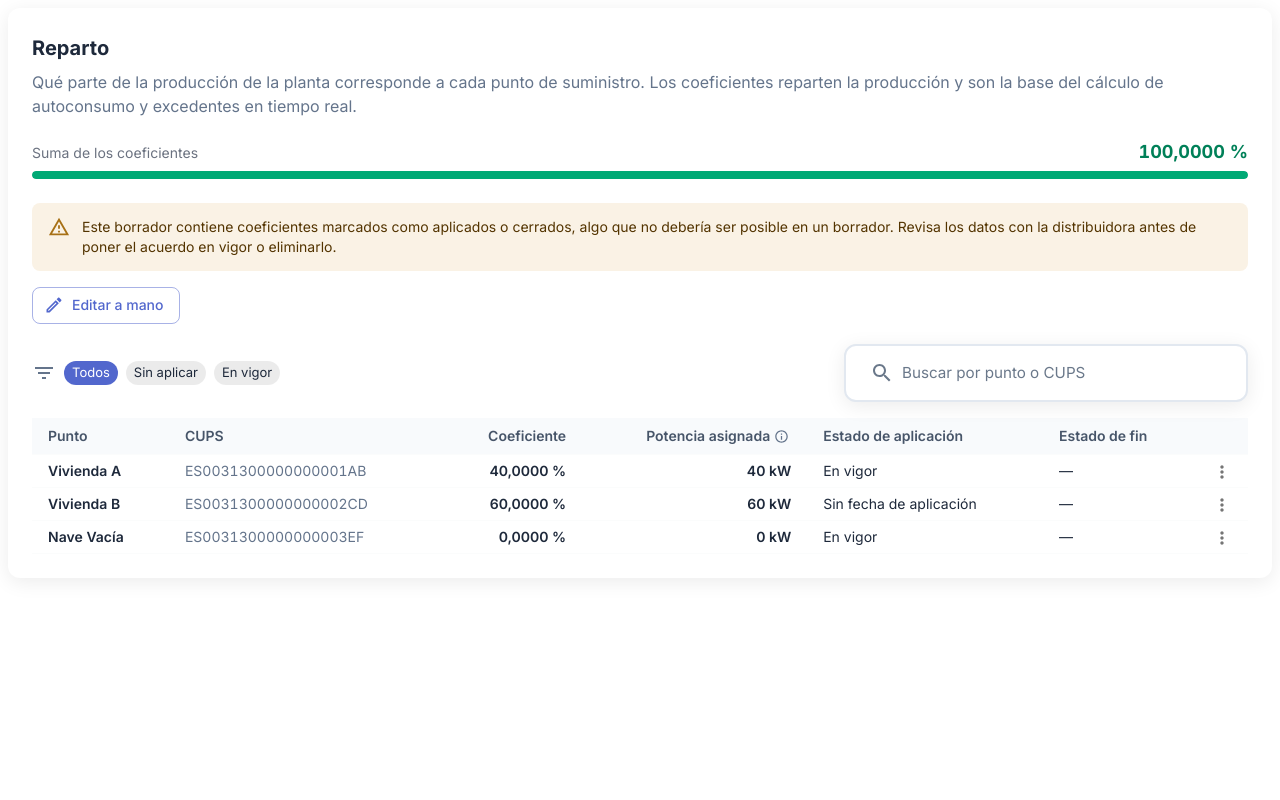
Test: SharingAgreementCoefficientSet (DRAFT editing) › hides the coefficient sum cards while editing, in favor of the live readout
Expected: the text "Suma de los coeficientes" is shown, [32,143,198,163]
Expected: the text "Suma de los coeficientes: " is not shown
Click the button "Editar a mano".
click(106, 305)  # box [32,287,180,324]
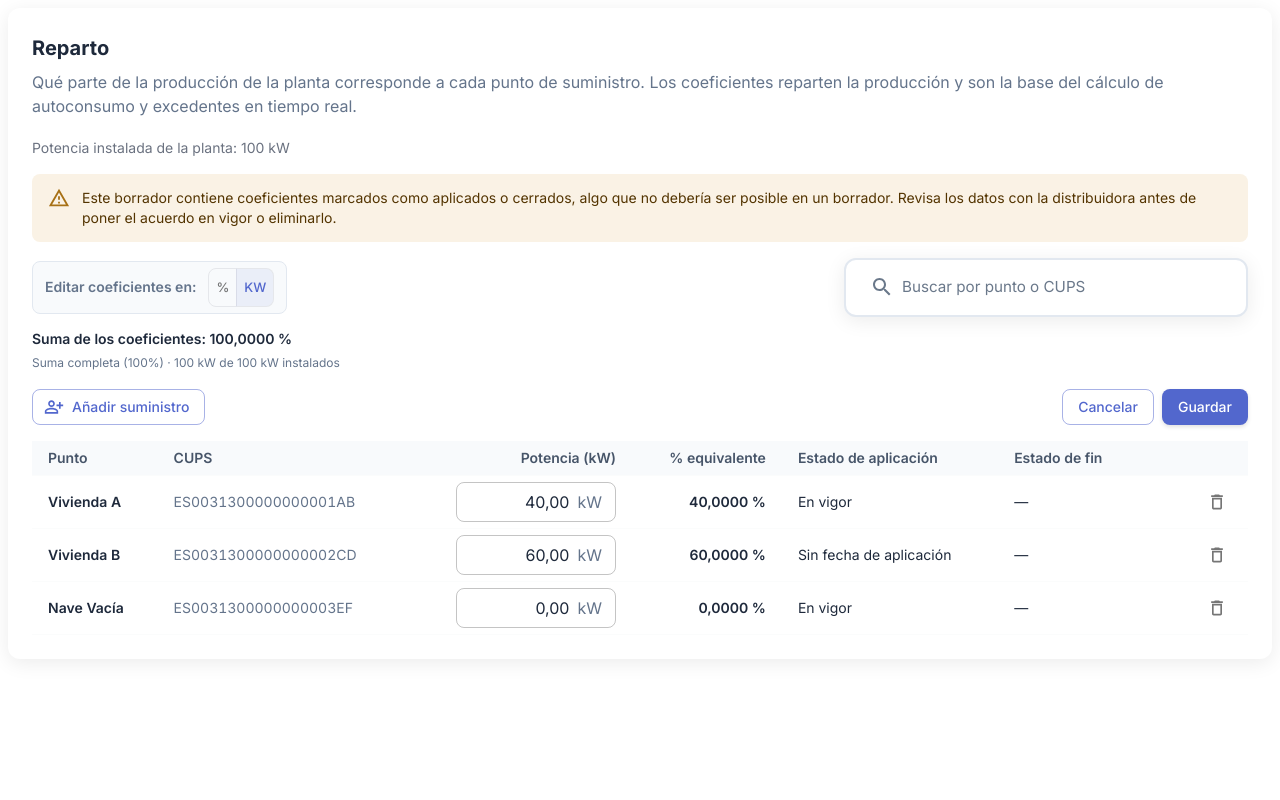
Expected: the text "Suma de los coeficientes: 100,0000 %" is shown, [32,330,292,347]
